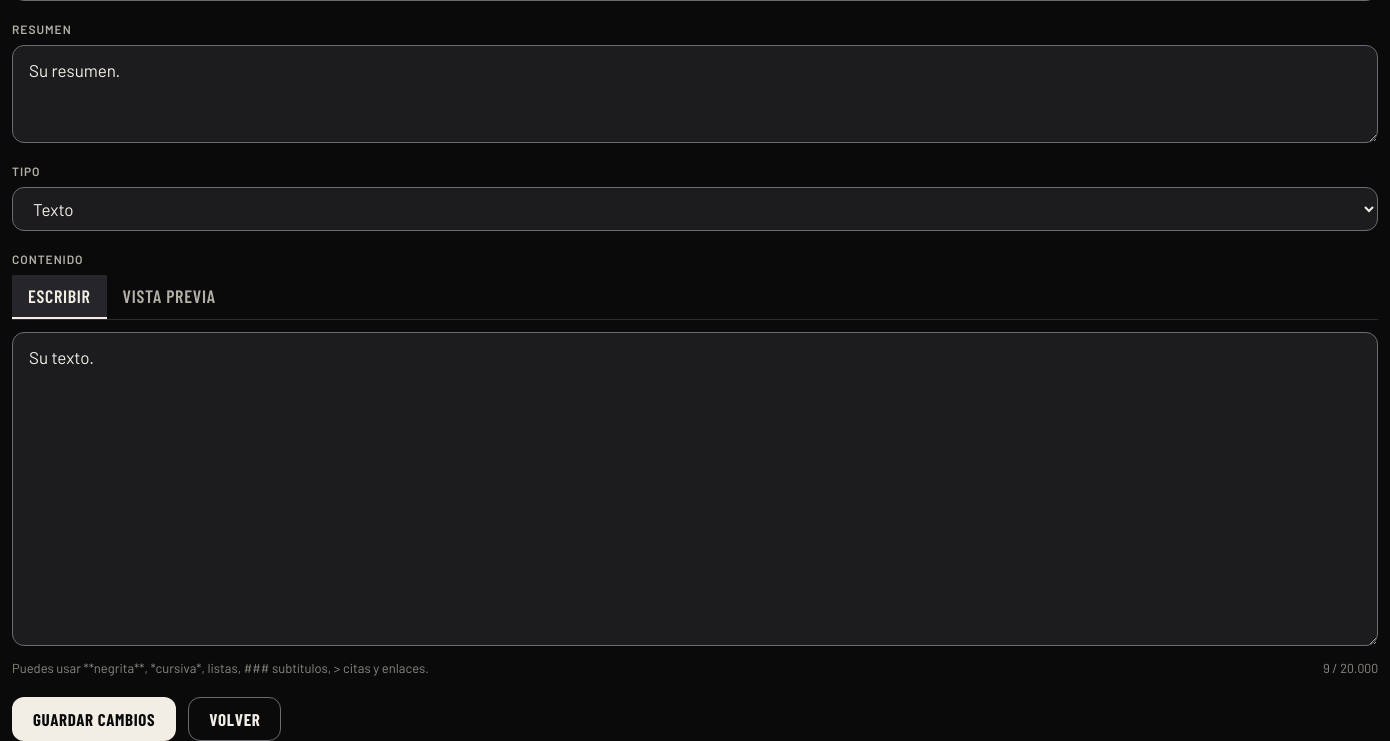
Scenario: SectionEditor › mientras guarda, el botón espera y no se lanza un segundo guardado
(page scrolled)
Click the button "Guardar cambios" at (94, 719), box left=12, top=697, right=176, bottom=740
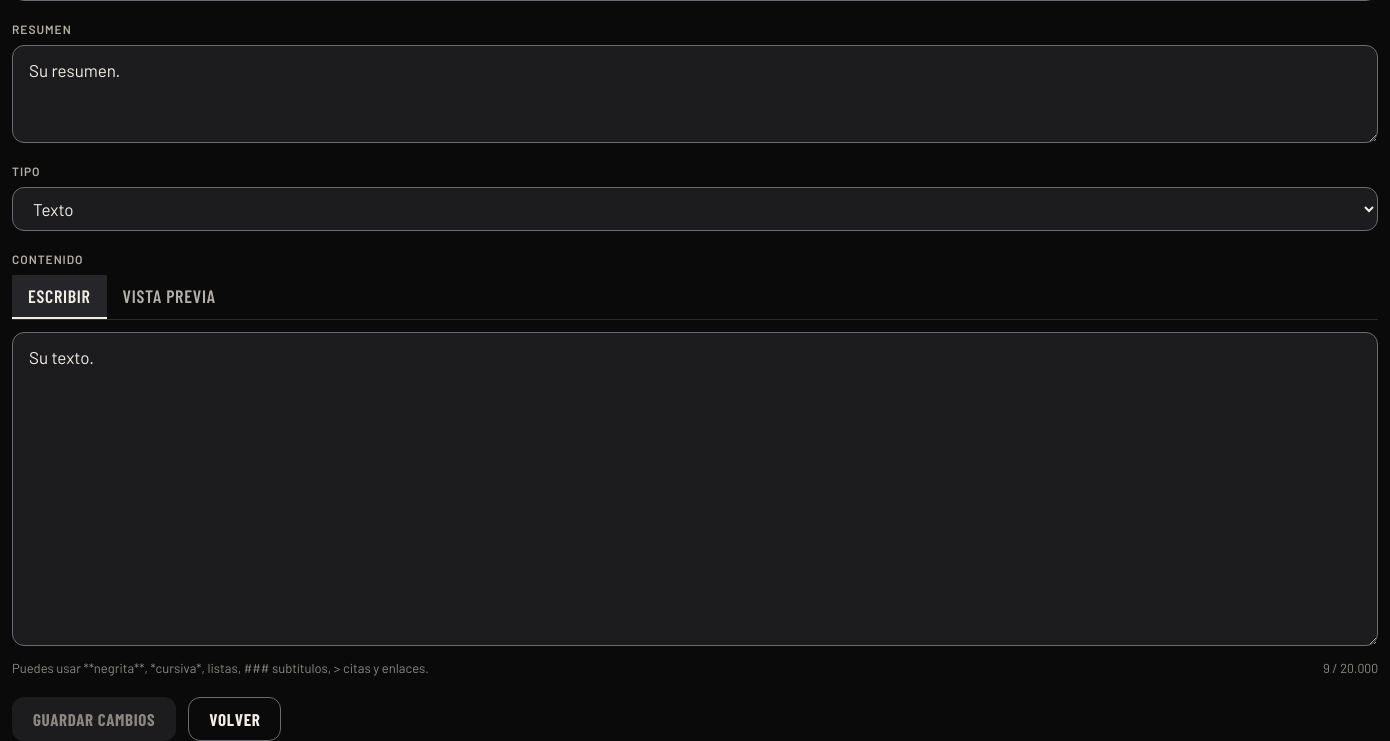
Expected: the button "Guardar cambios" is disabled
Click the button "Guardar cambios" at (94, 719), box left=12, top=697, right=176, bottom=740
(page scrolled)
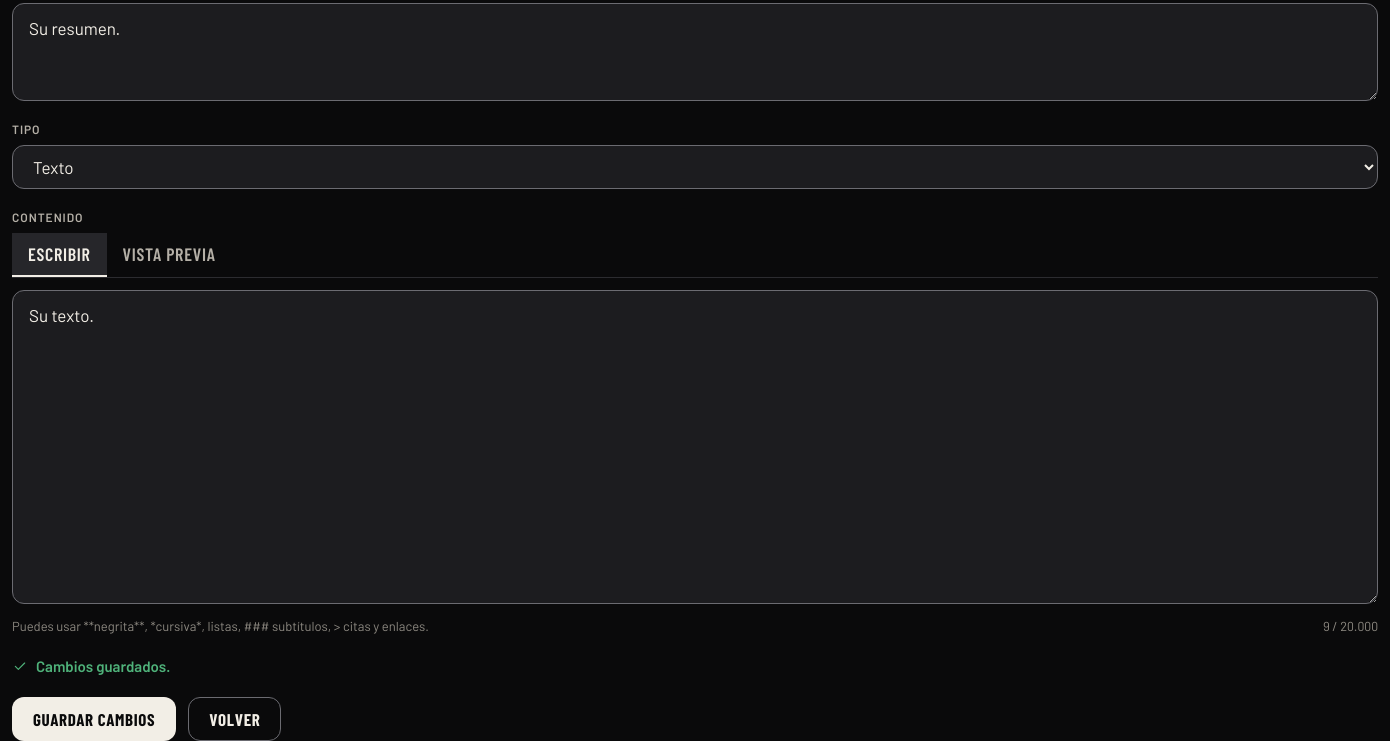
Expected: the text "Cambios guardados." is shown, left=12, top=657, right=170, bottom=675
Expected: the button "Guardar cambios" is enabled, left=12, top=697, right=176, bottom=740
